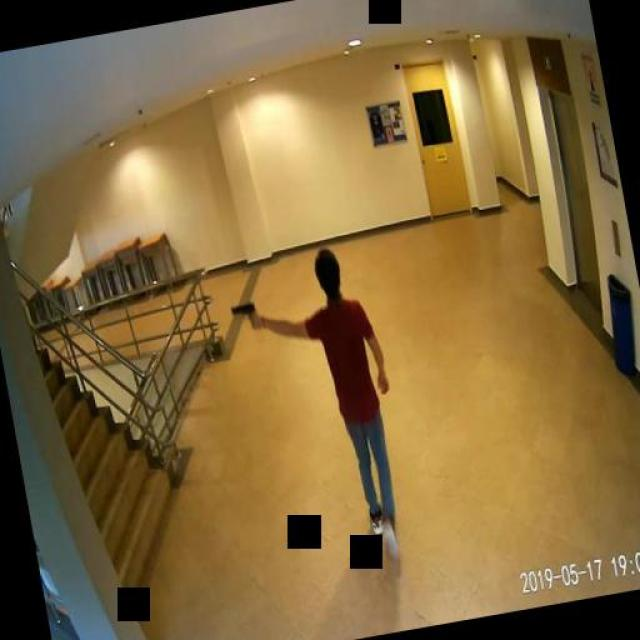gun: (228, 298, 258, 332)
